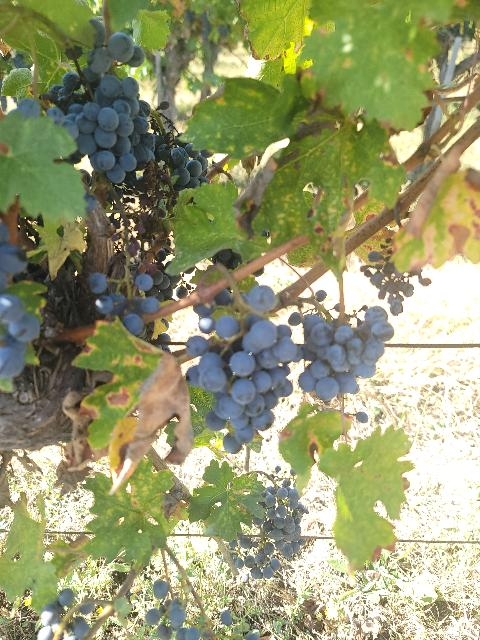grapes: (42, 19, 160, 184), (185, 305, 302, 452), (299, 306, 394, 401)
